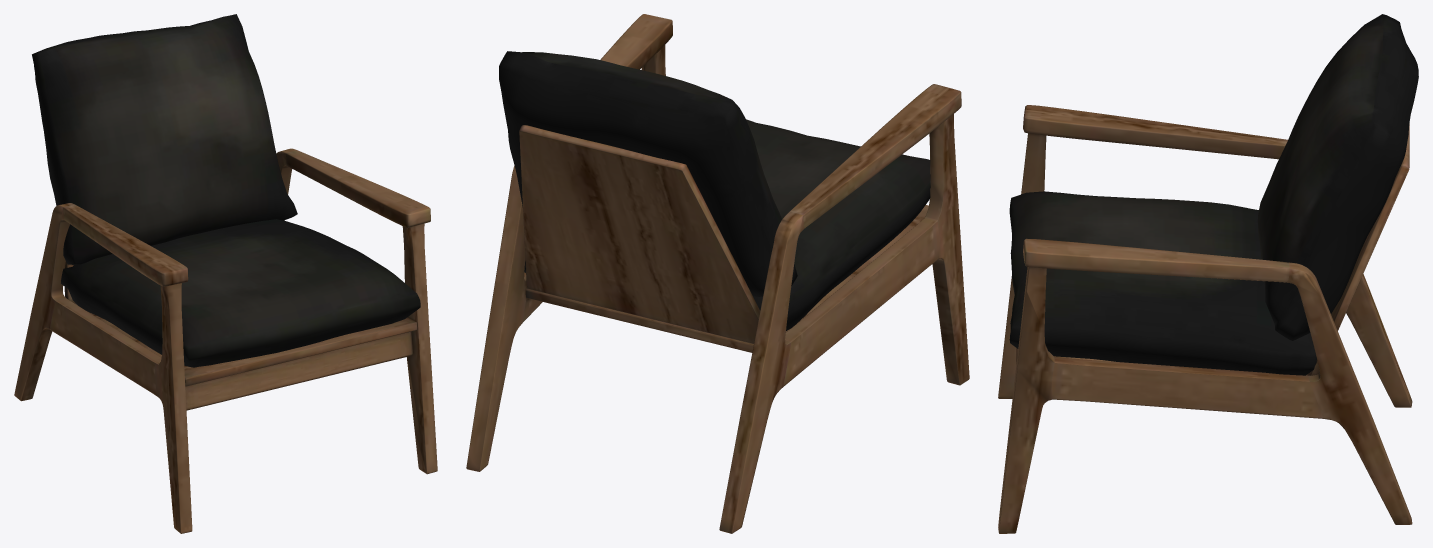
File: modern_arm_chair_01.glb
The picture shows the model from 3 angles, left to right: view 1: azimuth 30°, elevation 25°; view 2: azimuth 150°, elevation 25°; view 3: azimuth 270°, elevation 25°; orthographic projection. The views are drawn at different scales.
Visible parts, largest first — view 1: modern_arm_chair_01; view 2: modern_arm_chair_01; view 3: modern_arm_chair_01.
Boxes of the visible parts, x1,y1,x2,y2 form: modern_arm_chair_01: (14, 14, 437, 533); modern_arm_chair_01: (466, 14, 969, 533); modern_arm_chair_01: (998, 14, 1418, 533).
Bounding box in the file's own units: 0.8203 × 1.02 × 0.9866.
2 materials, 2 textured.
